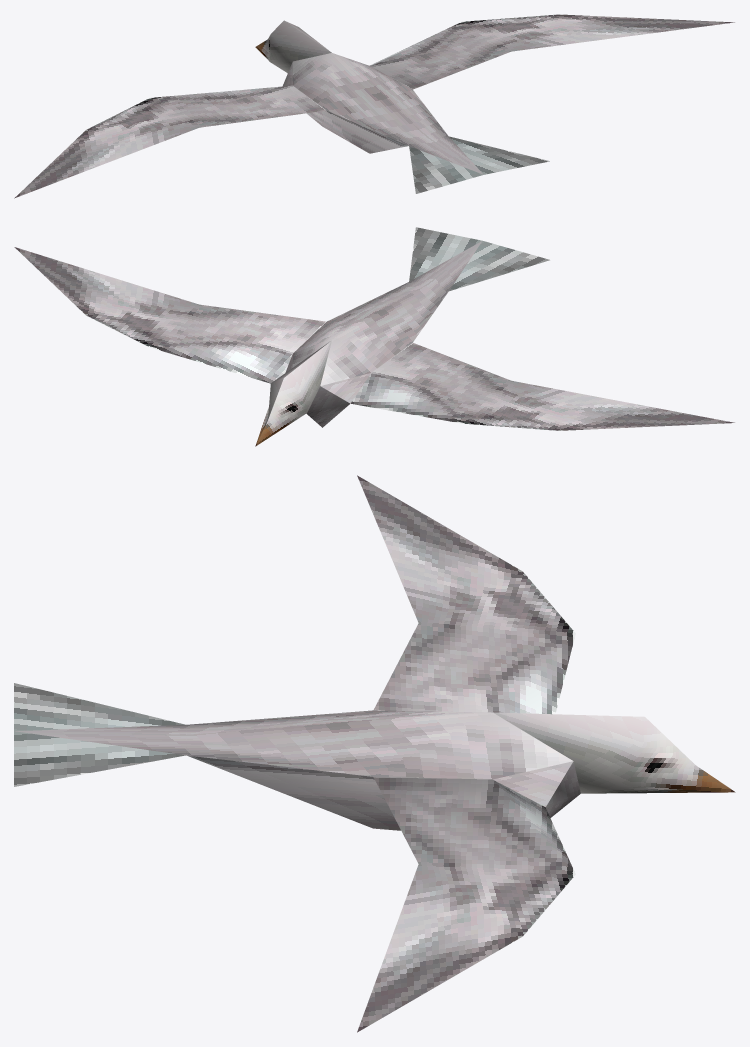
Rendered from Critter_Gull.FBX.
3 renders of one model, top to bottom at view 1: azimuth 30°, elevation 25°; view 2: azimuth 150°, elevation 25°; view 3: azimuth 270°, elevation 25°, orthographic. The views are drawn at different scales.
Parts seen in each view (by area): view 1: critter_gull; view 2: critter_gull; view 3: critter_gull.
Part boxes in pixels (bbox=[...]): critter_gull: bbox=[14, 14, 734, 198]; critter_gull: bbox=[14, 227, 734, 446]; critter_gull: bbox=[14, 475, 735, 1032].
Bounding box in the file's own units: 139 × 14.89 × 76.16.
